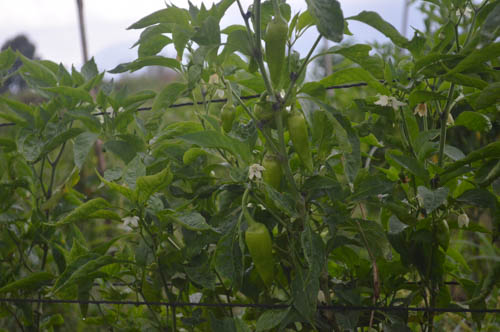ChiliPepper: (245, 227, 275, 288), (261, 19, 287, 83), (288, 112, 314, 165), (257, 156, 280, 193), (219, 109, 236, 126)
